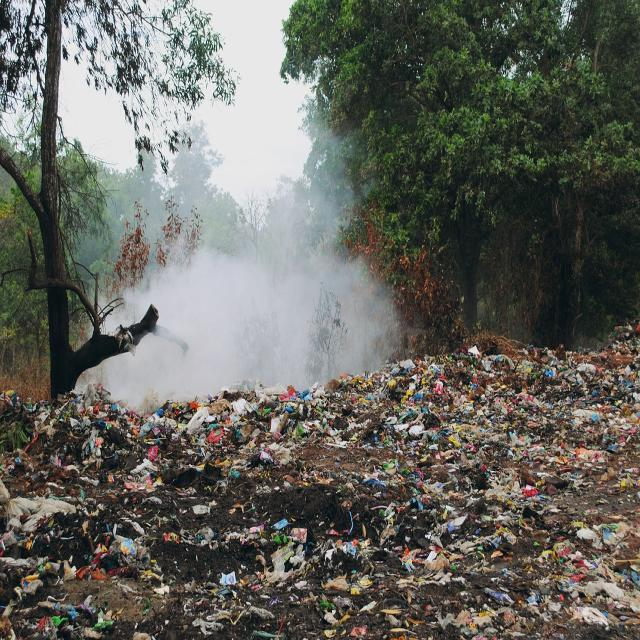Smoke: (96, 53, 390, 419)
